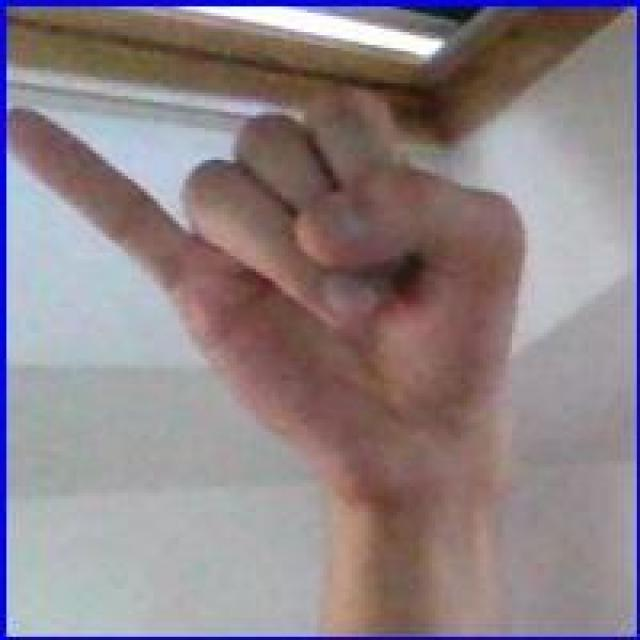J: (13, 61, 525, 496)
